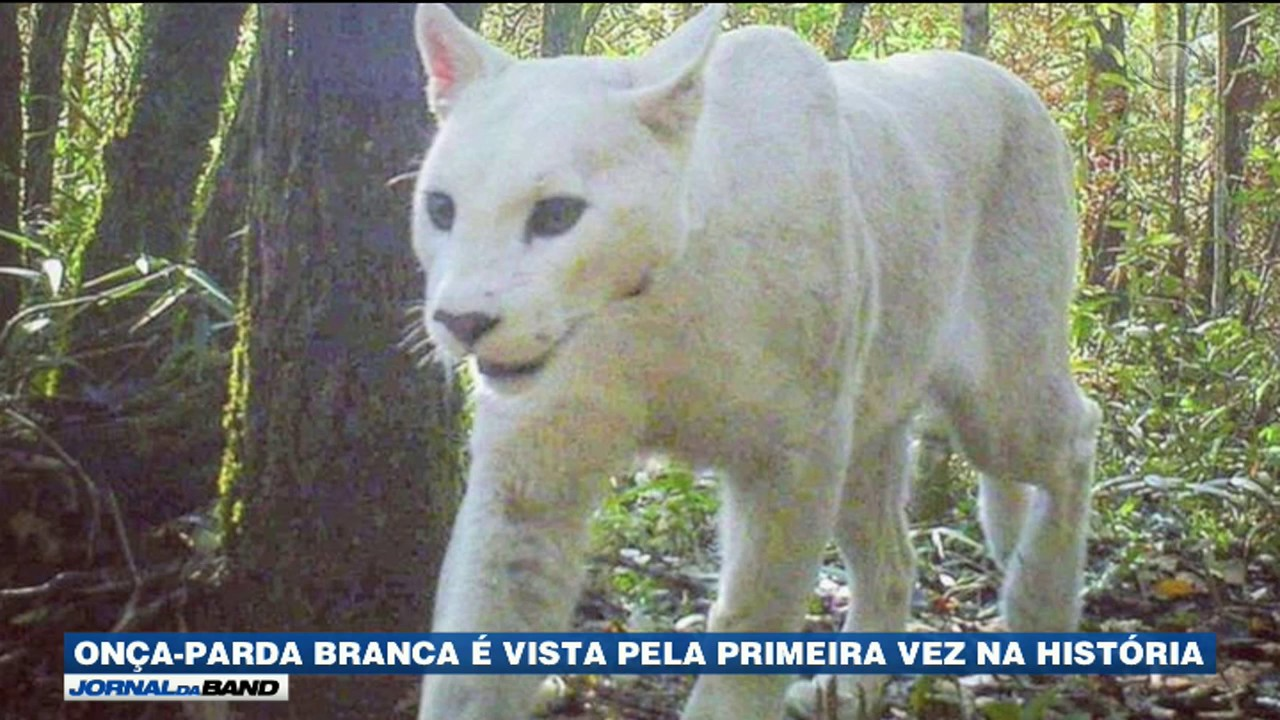OncaParda: (388, 5, 1103, 624)
